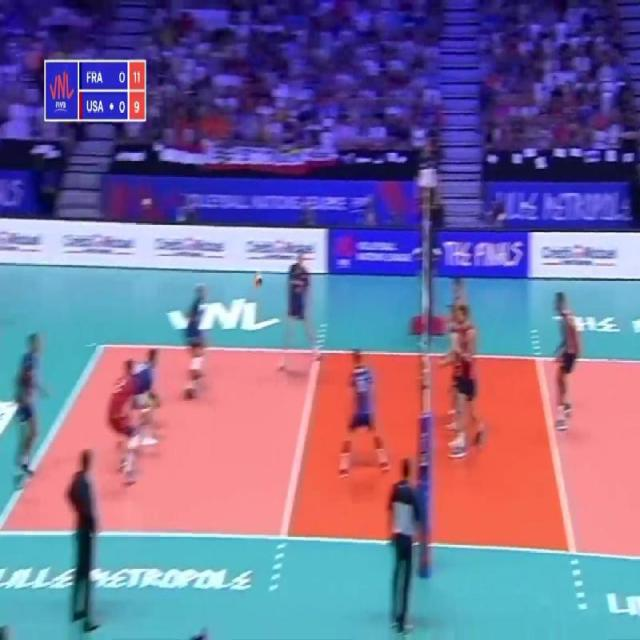volleyball: (254, 272, 262, 286)
